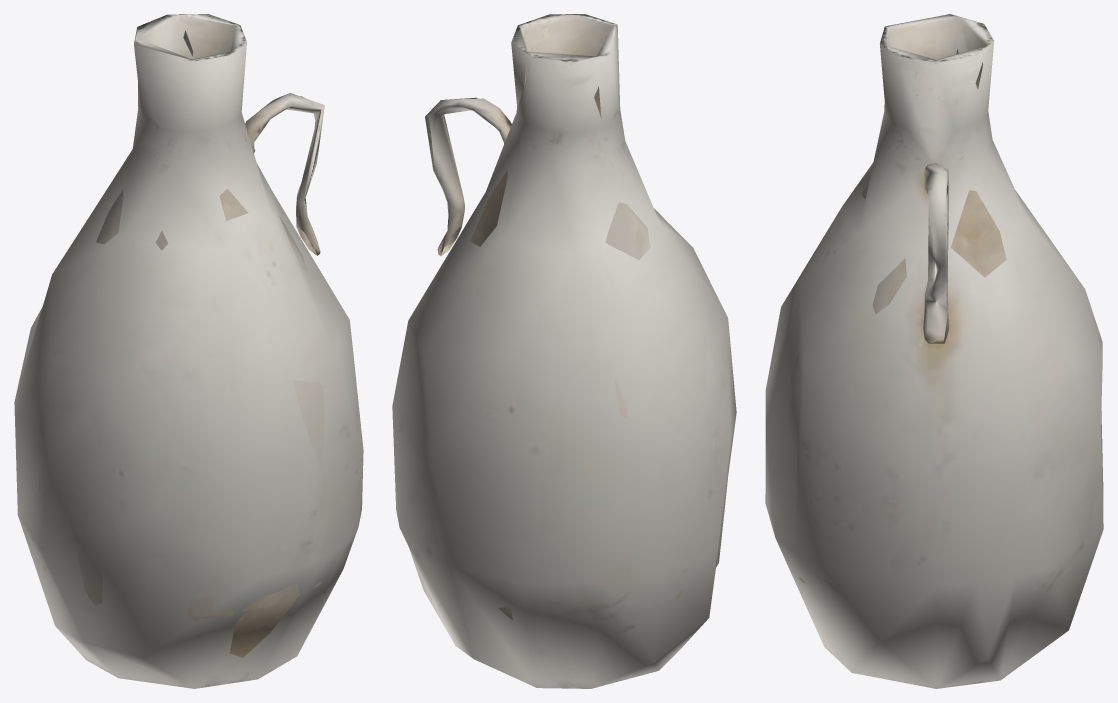
File: jug.glb
3 renders of one model, left to right at view 1: azimuth 30°, elevation 25°; view 2: azimuth 150°, elevation 25°; view 3: azimuth 270°, elevation 25°, orthographic.
Visible parts, largest first — view 1: ceramic_vase_04; view 2: ceramic_vase_04; view 3: ceramic_vase_04.
Boxes of the visible parts, x1,y1,x2,y2 form: ceramic_vase_04: [14, 14, 363, 688]; ceramic_vase_04: [392, 14, 736, 688]; ceramic_vase_04: [765, 14, 1103, 688].
Size of the model in its own units: 0.1793 by 0.341 by 0.1729.
1 material, 1 textured.
